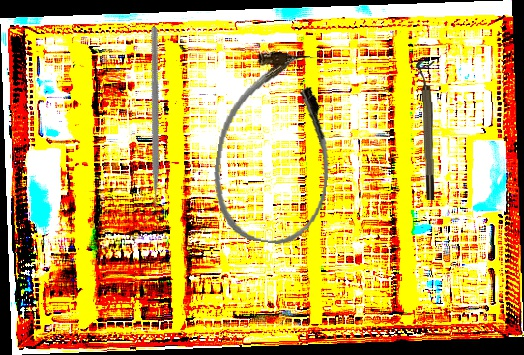Cannula: (205, 45, 345, 250)
Chopper: (57, 24, 242, 224)
Fixation Ring: (415, 60, 438, 201)
